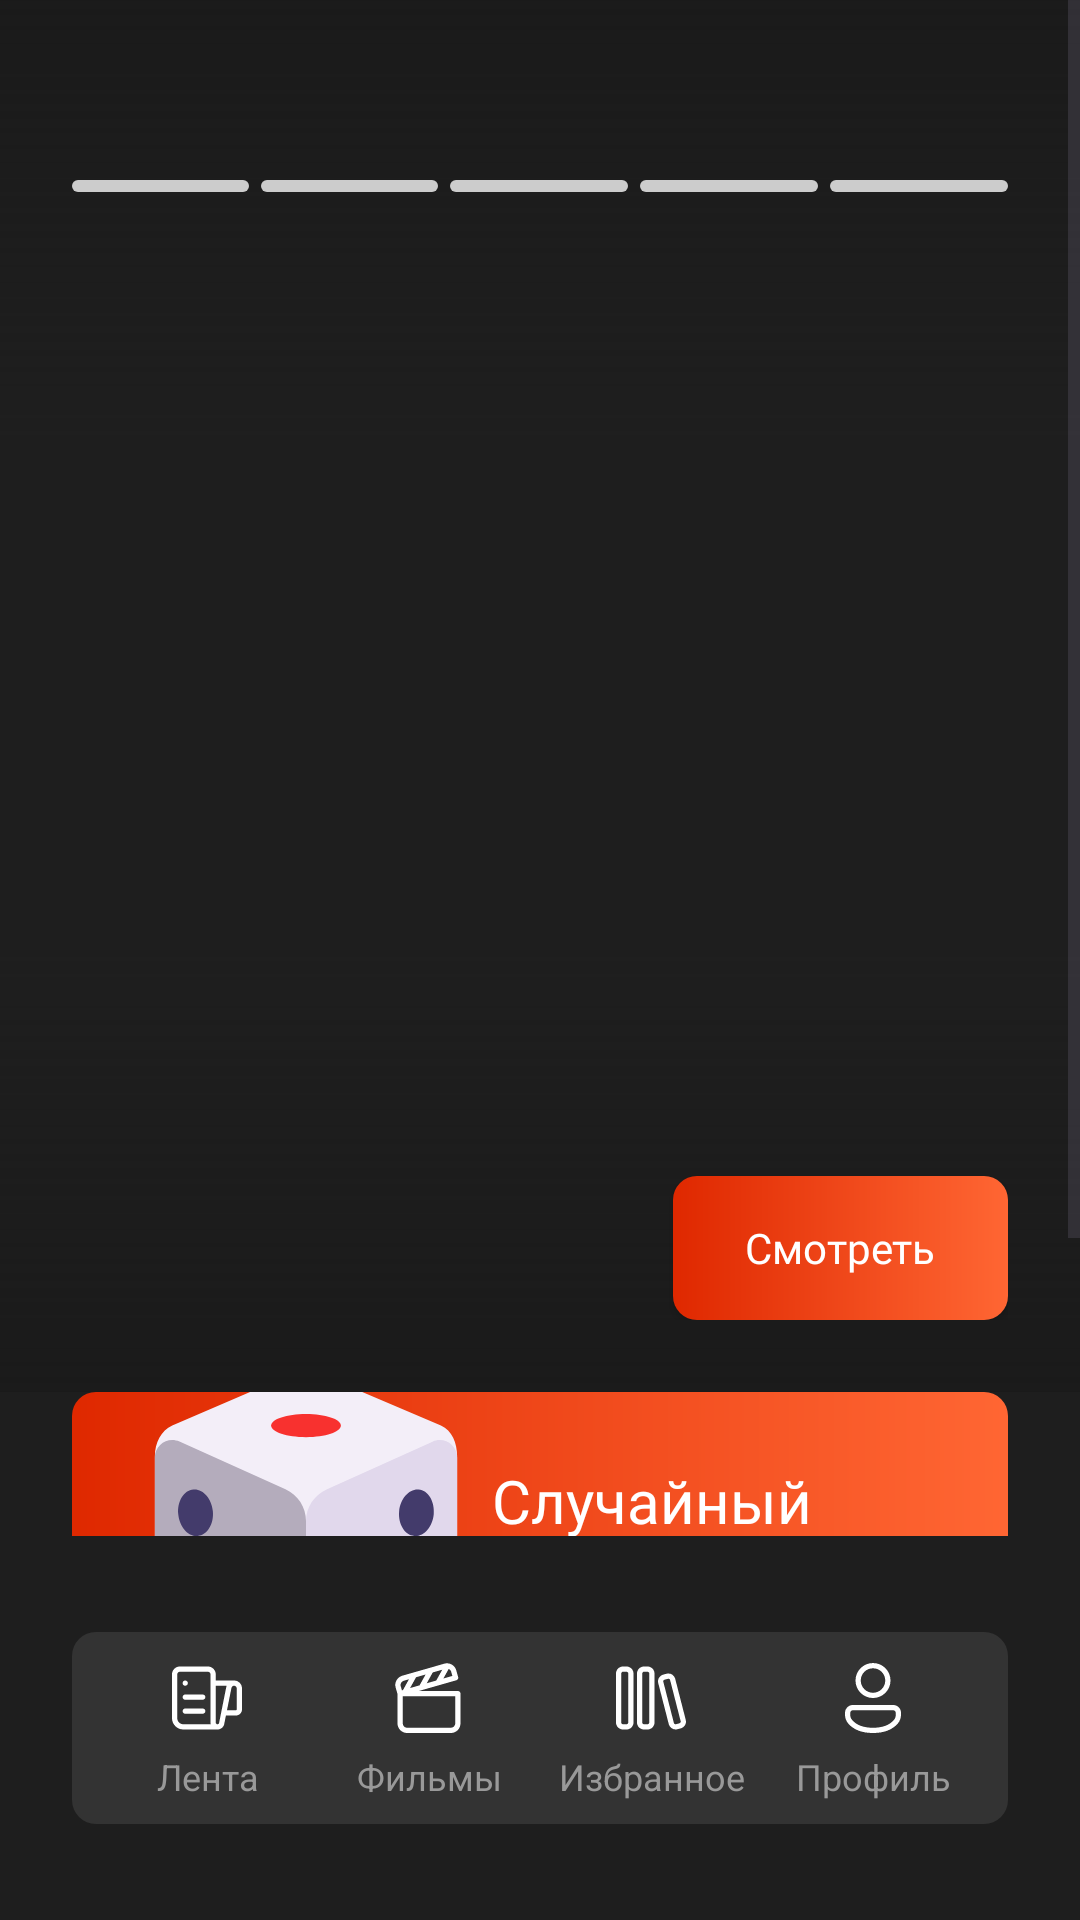

Point at icon controls on the screen. Image size 1080w x 1920h, points as point (x, y).
library: point (651, 1698)
